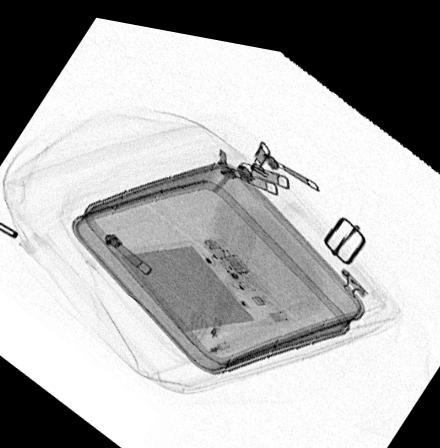Powerbank: (107, 227, 289, 330)
